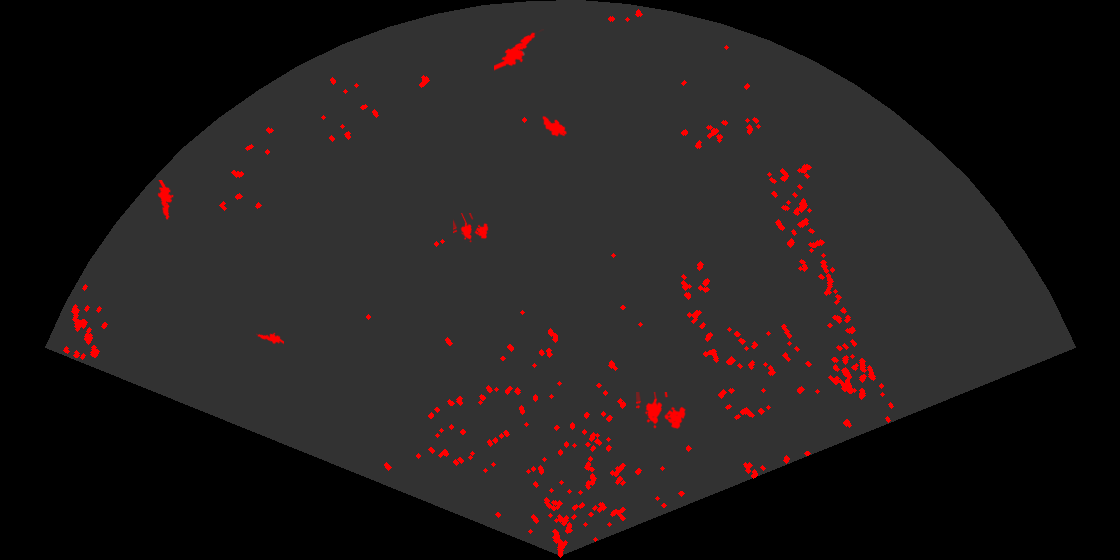AUV: (541, 114, 568, 138)
cage: (636, 392, 687, 430), (453, 213, 490, 244)
frogman: (494, 29, 544, 72), (156, 180, 175, 220), (256, 331, 284, 346)
